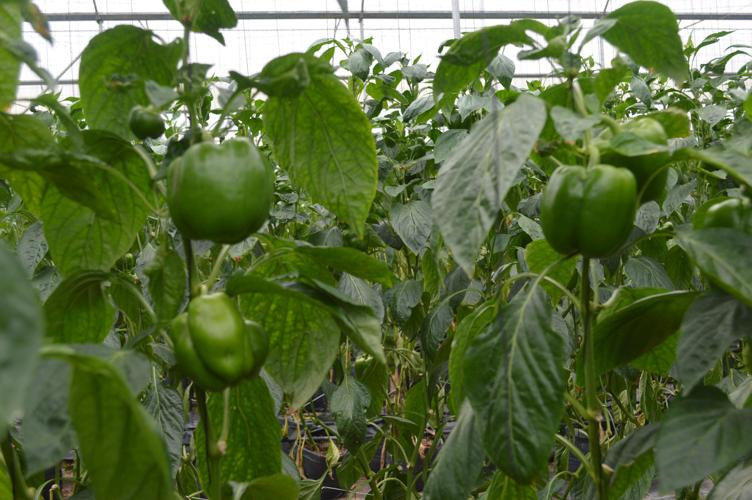BellPepper: (163, 136, 271, 249), (171, 292, 273, 383), (544, 165, 635, 259), (595, 116, 667, 193)
